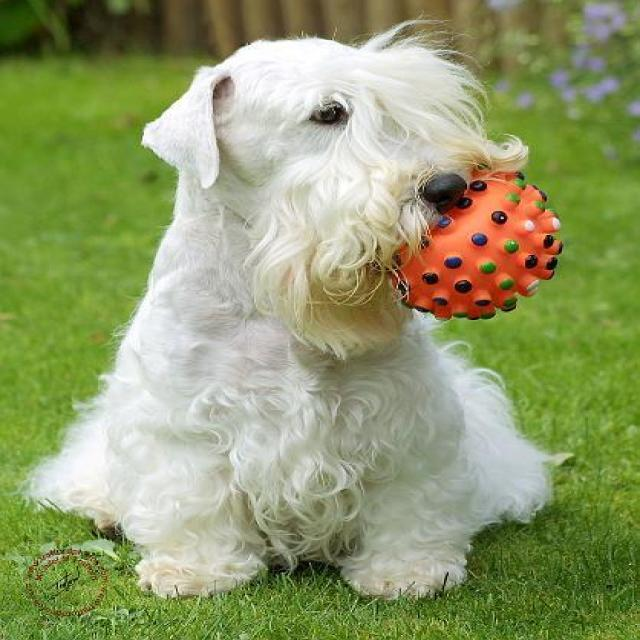adult_dog: (23, 24, 559, 600)
